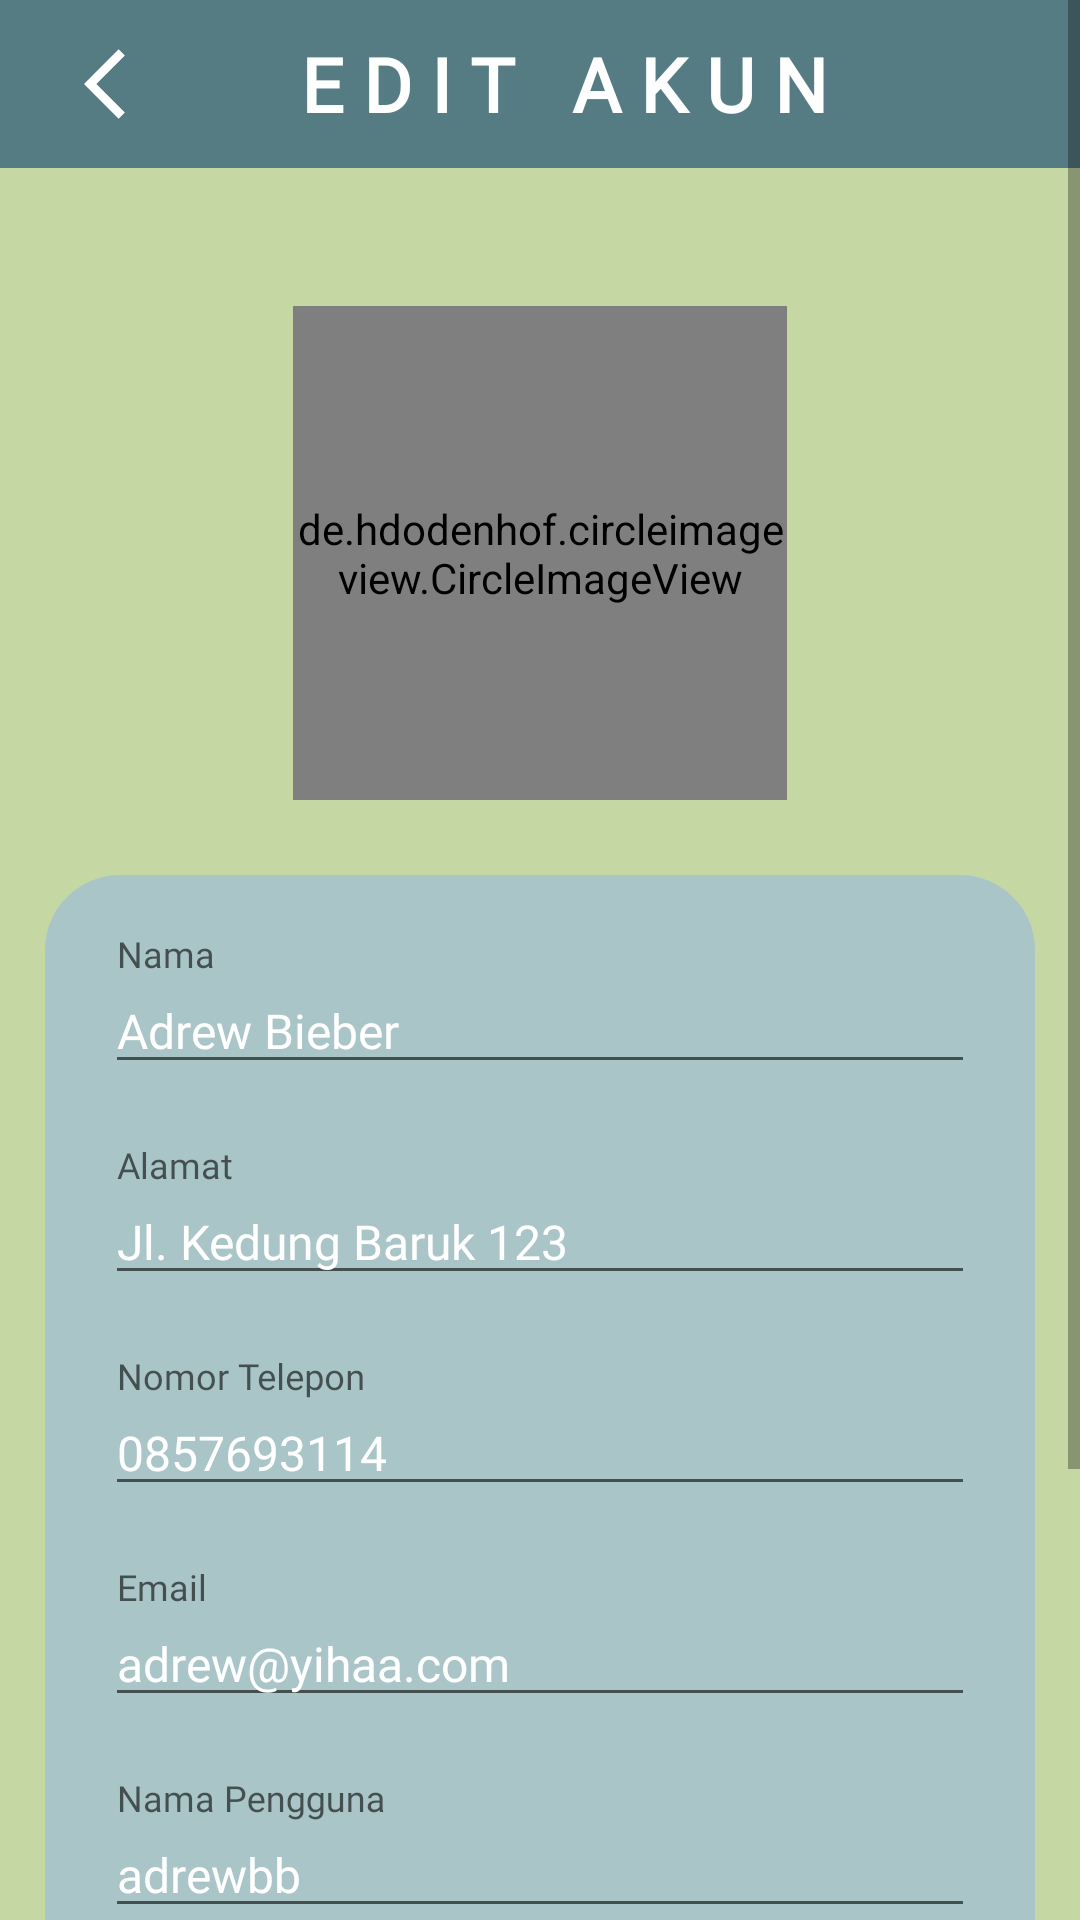

Point at icon controls on the screen. Image size 1080px x 1920px, points as (x,y).
back: (104,84)
